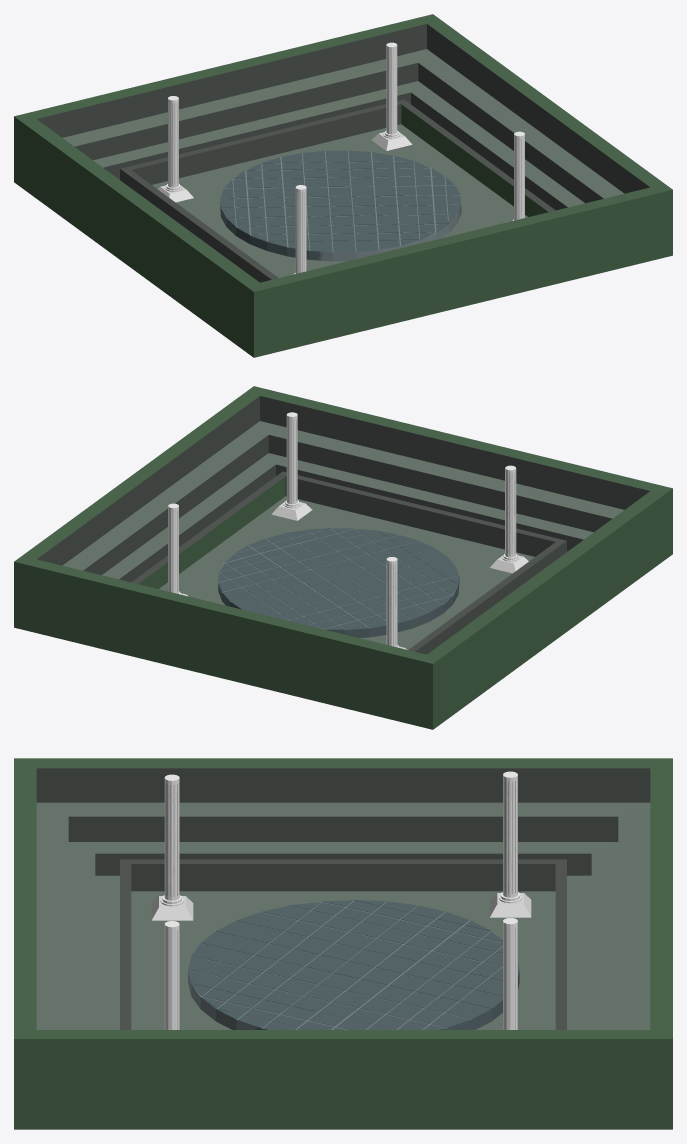
File: arenarevisi.fbx
3 renders of one model, top to bottom at view 1: azimuth 30°, elevation 25°; view 2: azimuth 150°, elevation 25°; view 3: azimuth 270°, elevation 25°, orthographic. The views are drawn at different scales.
Visible parts, largest first — view 1: Cube.014, Cylinder.006, Circle.002, Circle, Circle.001, Circle.003; view 2: Cube.014, Cylinder.006, Circle.001, Circle.003, Circle, Circle.002; view 3: Cube.014, Cylinder.006, Circle.001, Circle, Circle.003, Circle.002, PILAR.004, PILAR.002.
Part boxes in pixels (box(x1,y1,x2,y2)): Cube.014: box(14, 14, 672, 357); Cylinder.006: box(220, 150, 461, 261); Circle.002: box(383, 42, 400, 138); Circle: box(165, 96, 181, 191); Circle.001: box(294, 185, 306, 274); Circle.003: box(512, 131, 524, 220); Cube.014: box(14, 386, 672, 729); Cylinder.006: box(218, 528, 459, 637); Circle.001: box(502, 465, 518, 561); Circle.003: box(283, 412, 300, 508); Circle: box(386, 557, 399, 647); Circle.002: box(168, 503, 181, 594); Cube.014: box(14, 758, 672, 1129); Cylinder.006: box(188, 900, 519, 1029); Circle.001: box(160, 774, 183, 906); Circle: box(499, 771, 521, 903); Circle.003: box(164, 921, 179, 1029); Circle.002: box(503, 918, 517, 1029); PILAR.004: box(151, 896, 193, 920); PILAR.002: box(490, 893, 531, 917).
Bounding box in the file's own units: 24091 × 5653 × 23890.
3 materials, 3 textured.
